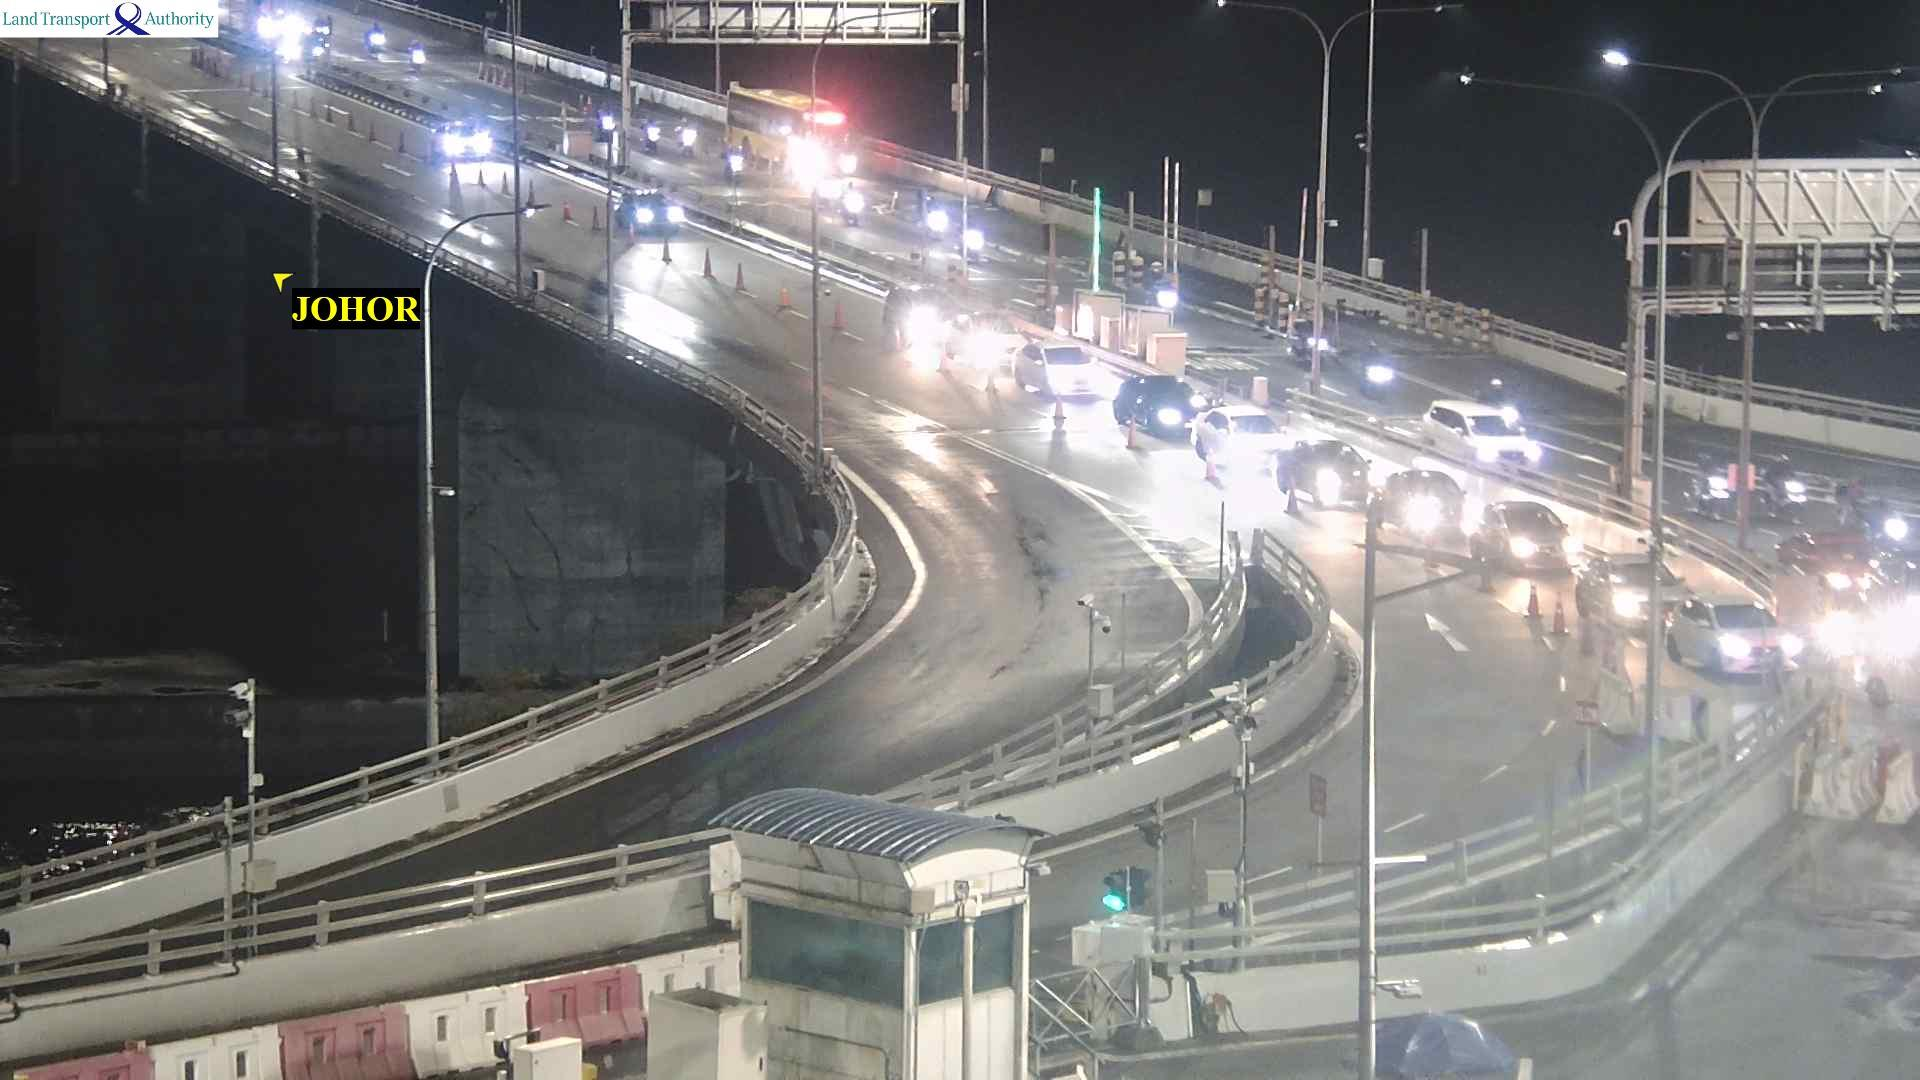vehicle-secondlink-singapore: (1575, 538, 1697, 628), (1669, 597, 1799, 678), (1106, 373, 1284, 430), (1370, 468, 1464, 554), (1473, 500, 1569, 579), (1427, 394, 1542, 458), (1011, 343, 1127, 401), (882, 286, 969, 348), (1269, 448, 1375, 497), (1199, 417, 1309, 459), (410, 113, 491, 158), (1338, 345, 1400, 398), (1862, 497, 1920, 553), (1759, 454, 1816, 509), (618, 190, 678, 235), (1691, 458, 1738, 505), (721, 146, 750, 185), (309, 18, 327, 58), (676, 116, 695, 152), (601, 100, 615, 136), (409, 40, 422, 69), (646, 116, 658, 148), (368, 22, 380, 51)
